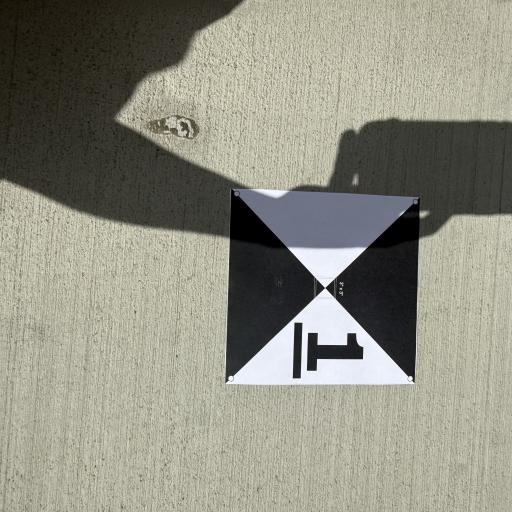target1: (226, 181, 420, 390)
